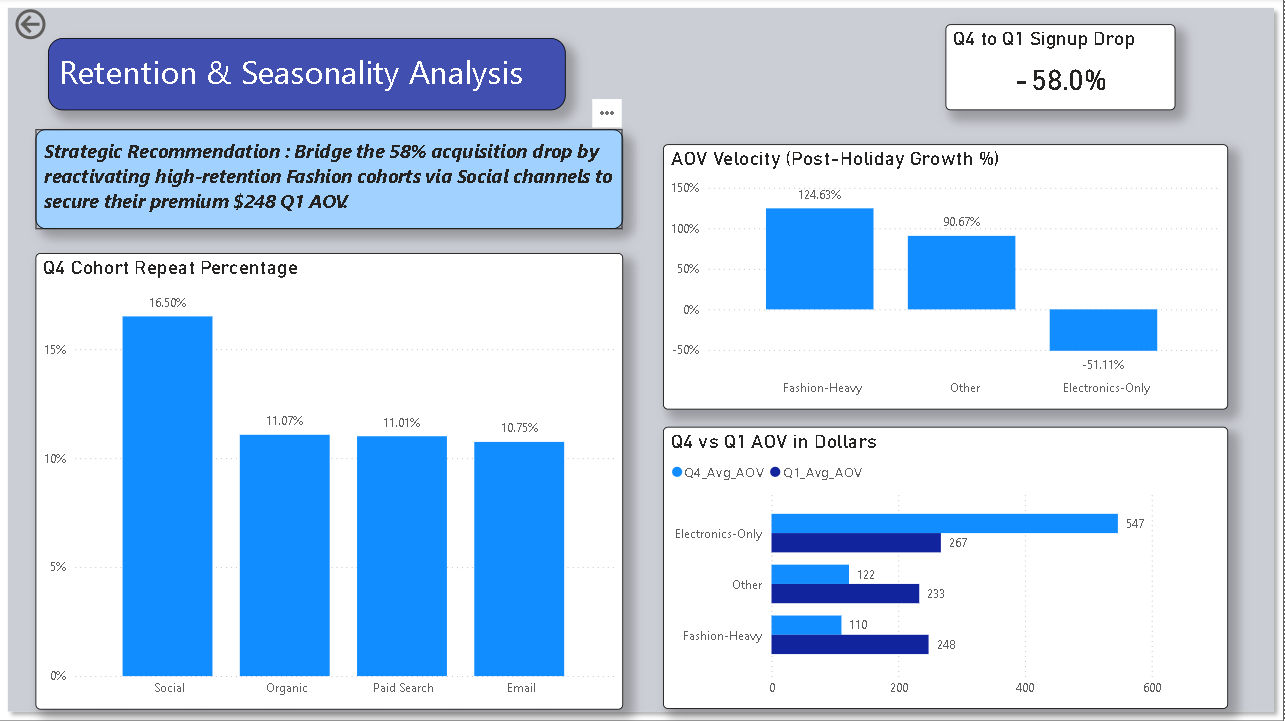

This screenshot's page, from the dashboard's own definition file:
{"tool":"powerbi","page":{"name":"PS-2","canvas":[1280,720],"ordinal":2},"visuals":[{"type":"textbox","box":[0,0,565.4,91.9],"z":0},{"type":"shape","box":[0,0,1280,720.3],"z":1000},{"type":"textbox","box":[49.8,39.8,515,72.1],"z":2000},{"type":"textbox","box":[37.3,130.6,584.7,99.5],"z":3000},{"type":"clusteredBarChart","title":"Q4 vs Q1 AOV in Dollars","fields":{"Category":["public v_ps2_lift_chart.segment"],"Y":["Sum(public v_ps2_lift_chart.q4_avg_aov)","Sum(public v_ps2_lift_chart.q1_avg_aov)"]},"box":[661.8,426.7,562.3,281.1],"z":5000},{"type":"actionButton","box":[12.4,6.2,49.8,39.8],"z":7000},{"type":"card","title":"Q4 to Q1 Signup Drop","fields":{"Values":["Measures (2).Signup Drop %"]},"box":[942.9,26.1,228.9,85.8],"z":8000},{"type":"clusteredColumnChart","title":"Q4 Cohort Repeat Percentage","fields":{"Category":["public v_ps2_channel_chart (2).channel_name"],"Y":["Sum(public v_ps2_channel_chart (2).repeat_rate_q4)"]},"box":[37.3,253.8,584.7,454],"z":9000},{"type":"clusteredColumnChart","title":"AOV Velocity (Post-Holiday Growth %)","fields":{"Category":["v_ps2_lift_chart.segment"],"Y":["Sum(v_ps2_lift_chart.aov_lift_pct)"]},"box":[661.8,145.5,562.3,263.7],"z":9001}]}

Visuals, with their boxes in screenshot pixels (x1, y1, x2, y2), scaled from the page's 1280x720 canvas onto the 1285x721 screenshot:
textbox: 0 0 568 92
shape: 0 0 1284 720
textbox: 50 40 567 112
textbox: 37 131 624 230
"Q4 vs Q1 AOV in Dollars" clusteredBarChart: 664 427 1229 709
actionButton: 12 6 62 46
"Q4 to Q1 Signup Drop" card: 947 26 1176 112
"Q4 Cohort Repeat Percentage" clusteredColumnChart: 37 254 624 709
"AOV Velocity (Post-Holiday Growth %)" clusteredColumnChart: 664 146 1229 410
